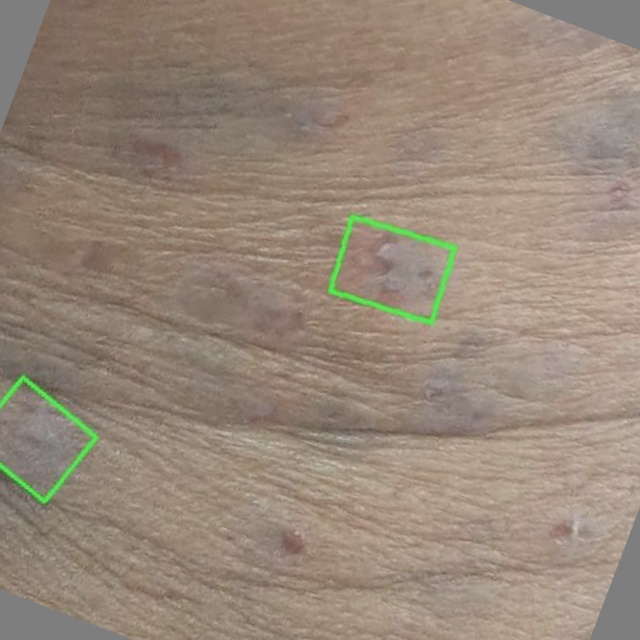Contact Dermatitis: (330, 217, 454, 323), (0, 377, 97, 502)
